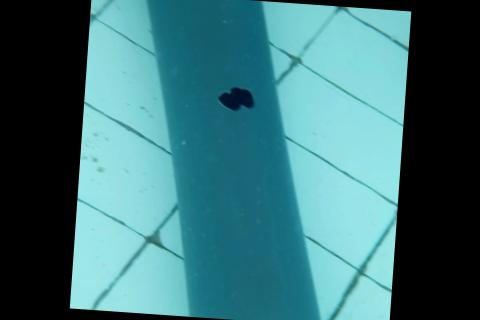kebocoran: (213, 82, 257, 113)
